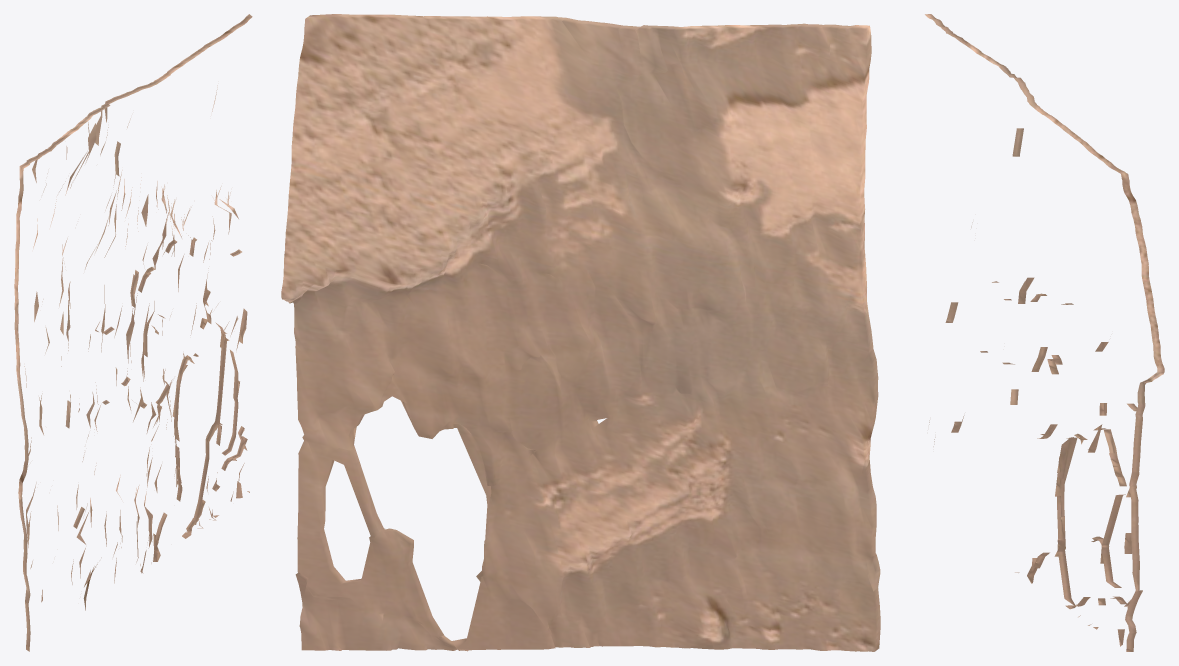
3 renders of one model, left to right at view 1: azimuth 30°, elevation 25°; view 2: azimuth 150°, elevation 25°; view 3: azimuth 270°, elevation 25°, orthographic. The views are drawn at different scales.
Bounding box in the file's own units: 0.5223 × 0.7275 × 0.3524.
Materials: 1 (1 with a texture image).
